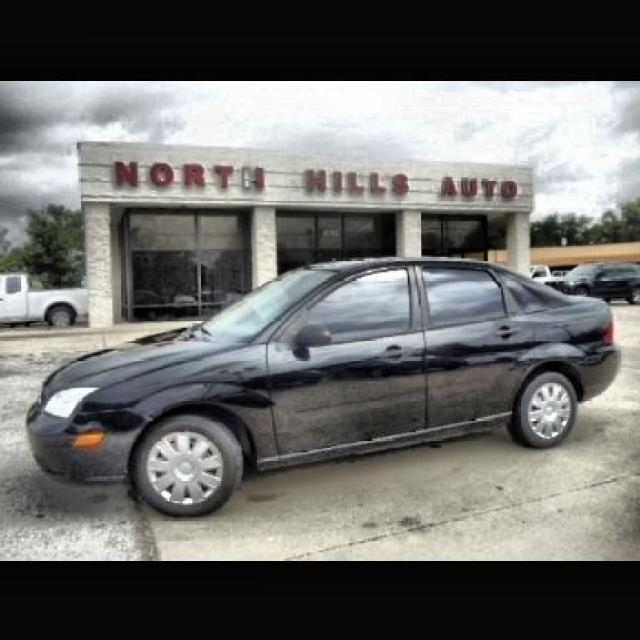black: (28, 237, 640, 483)
